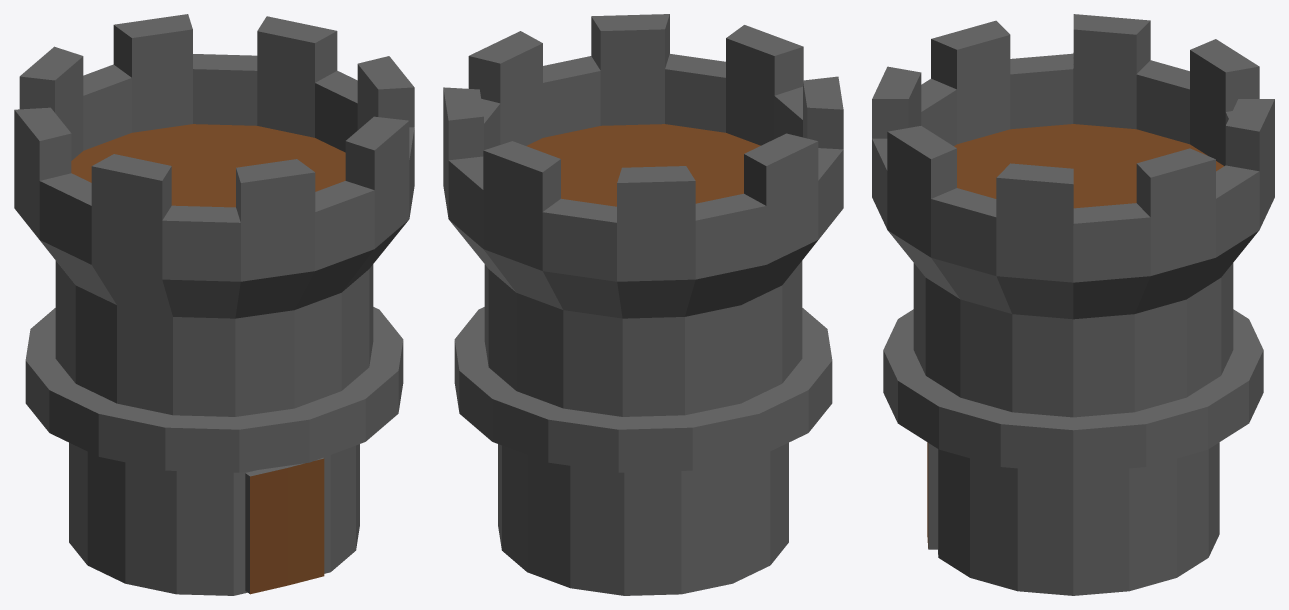
File: lowpolykale.fbx
3 views of the same model, side by side, from view 1: azimuth 30°, elevation 25°; view 2: azimuth 150°, elevation 25°; view 3: azimuth 270°, elevation 25° (orthographic).
Visible parts, largest first — view 1: Circle; view 2: Circle; view 3: Circle.
Part boxes in pixels (bbox=[...]): Circle: bbox=[14, 14, 414, 595]; Circle: bbox=[443, 14, 843, 595]; Circle: bbox=[872, 14, 1274, 595].
Bounding box in the file's own units: 275 × 328 × 275.
